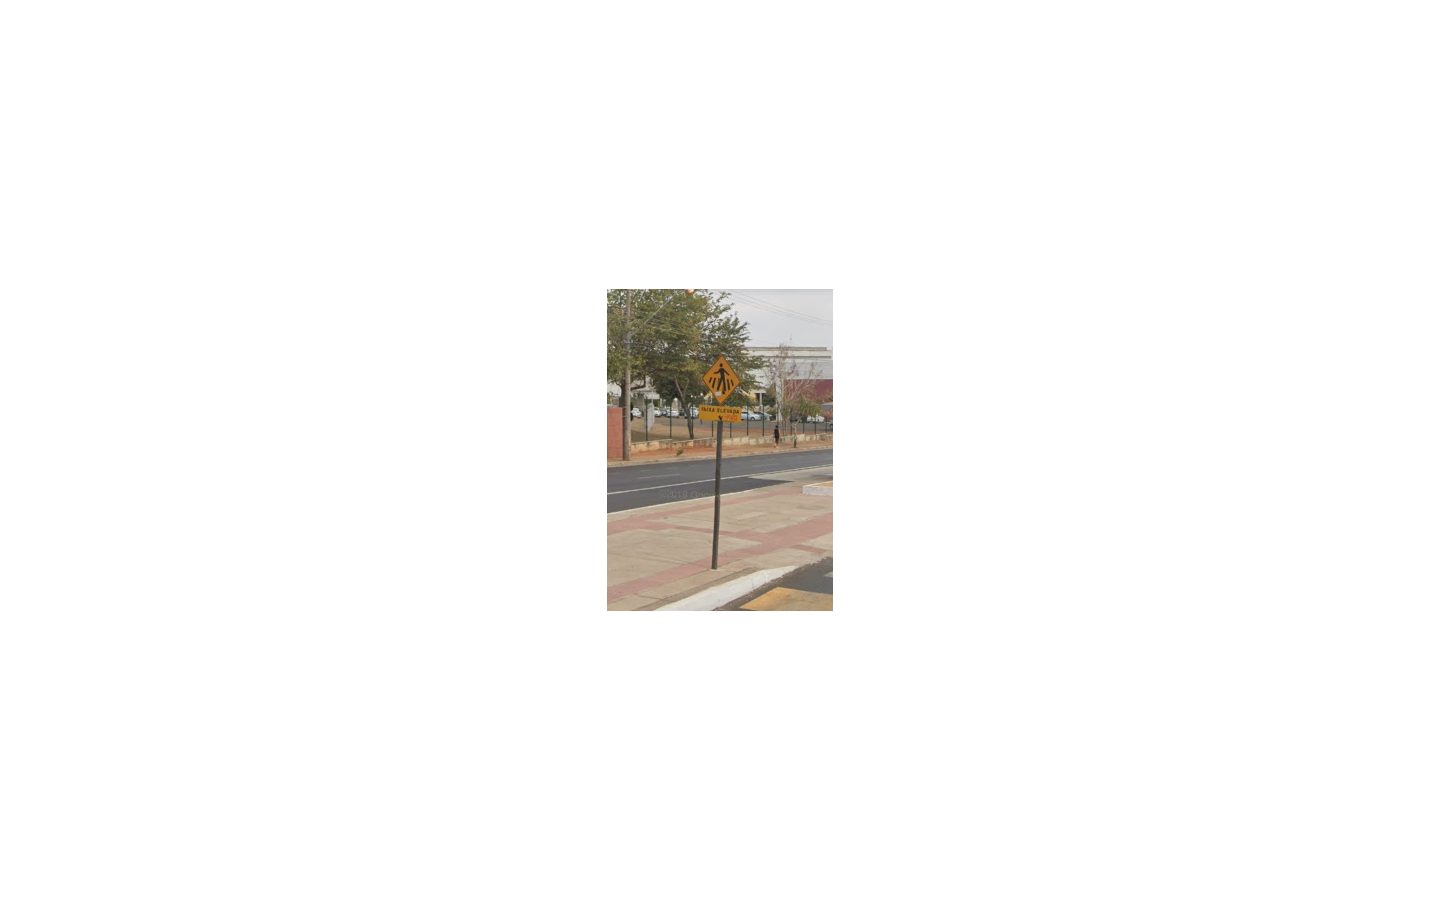telev: (698, 355, 741, 423)
